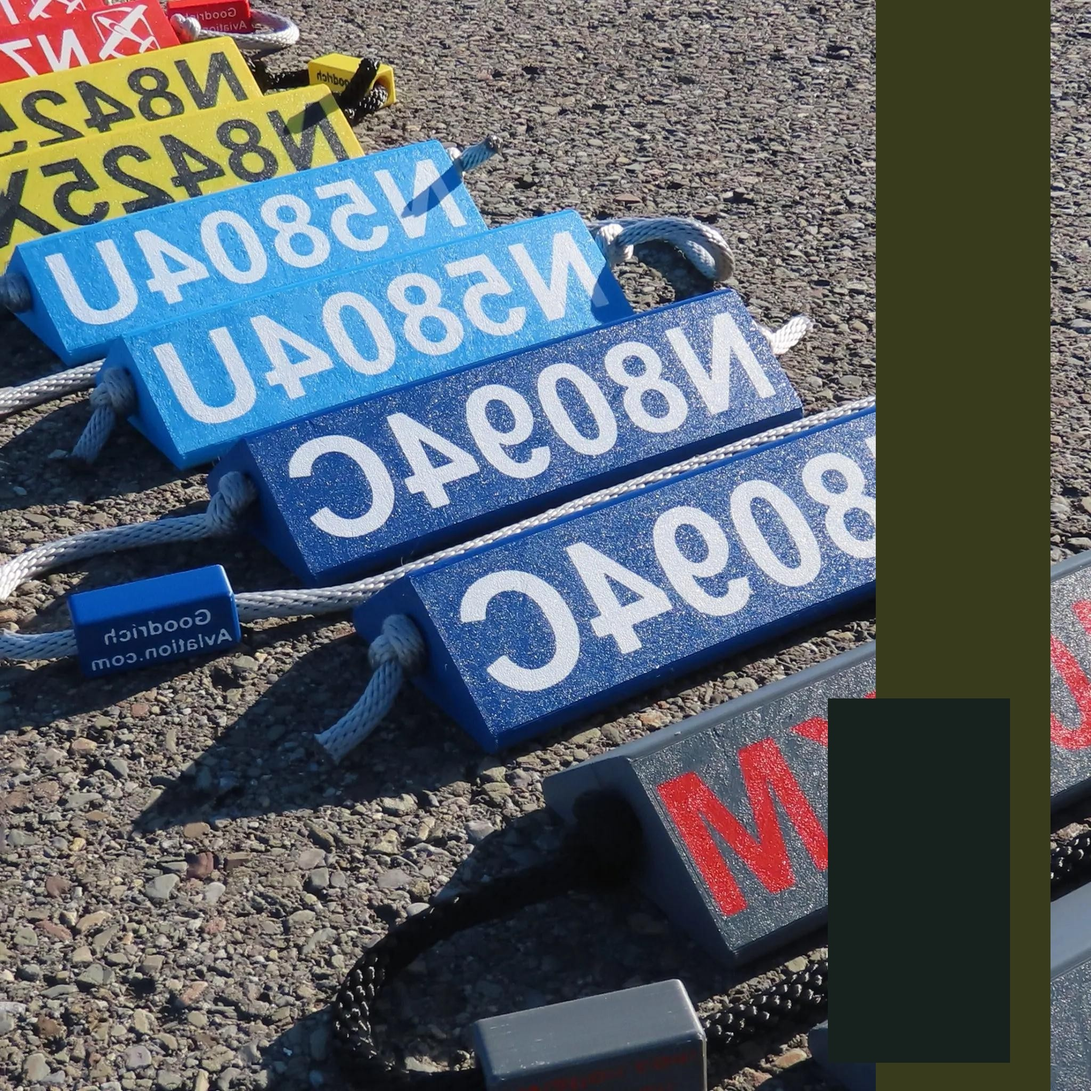chock: (348, 381, 1032, 759), (541, 547, 1087, 979), (201, 289, 807, 593), (95, 209, 634, 475), (2, 136, 494, 365), (0, 79, 382, 270), (807, 880, 1090, 1091), (0, 32, 285, 158)
